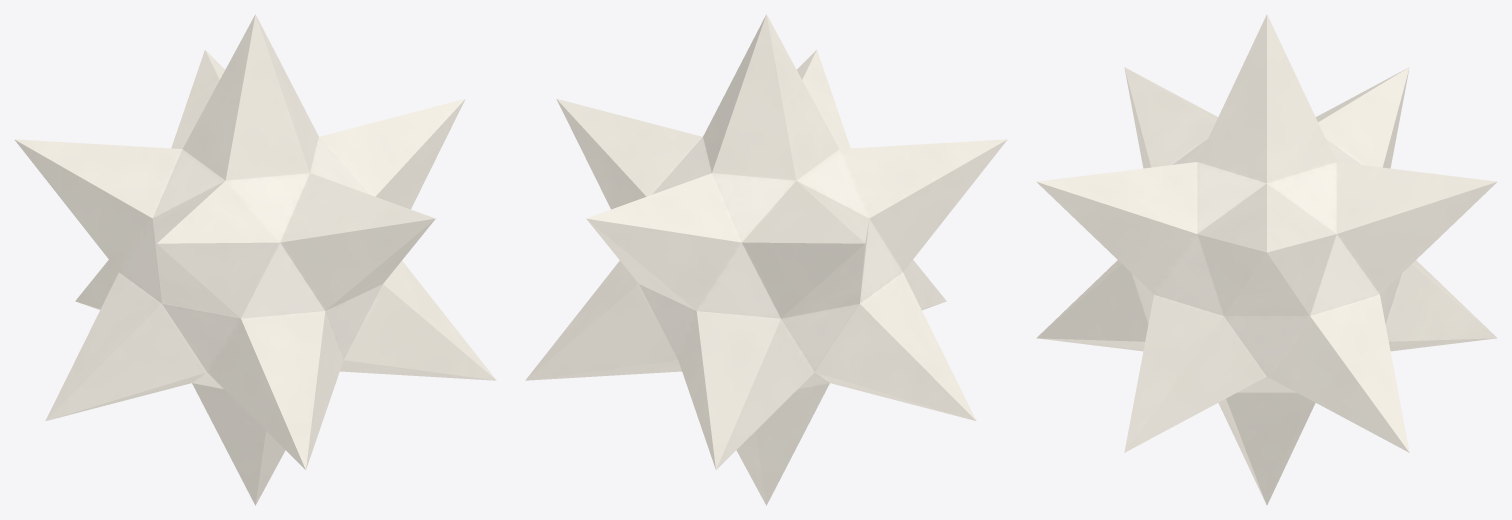
The model's file is star-quill.glb.
3 renders of one model, left to right at view 1: azimuth 30°, elevation 25°; view 2: azimuth 150°, elevation 25°; view 3: azimuth 270°, elevation 25°, orthographic.
Visible parts, largest first — view 1: Star_Quill; view 2: Star_Quill; view 3: Star_Quill.
Boxes of the visible parts, x1,y1,x2,y2 form: Star_Quill: (14, 14, 496, 505); Star_Quill: (525, 14, 1007, 505); Star_Quill: (1036, 14, 1497, 505).
Size of the model in its own units: 3.13 by 3.5 by 2.98.
1 material, 1 textured.
